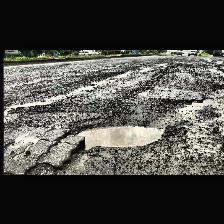pothole: (60, 121, 166, 150)
